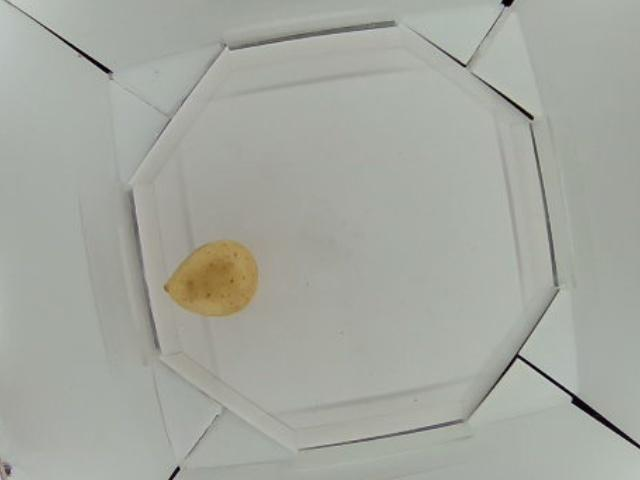Potato: (162, 241, 259, 319)
